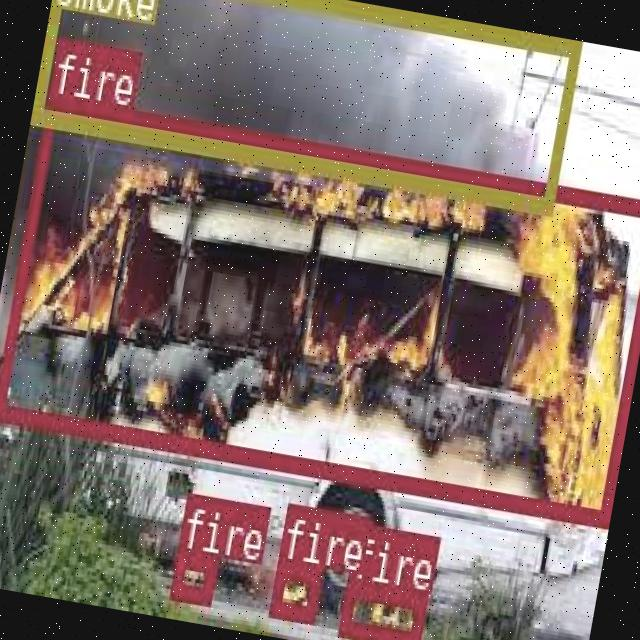fire: (0, 92, 640, 522), (336, 578, 425, 640), (266, 558, 322, 618), (168, 547, 216, 602)
smoke: (30, 0, 580, 213)
